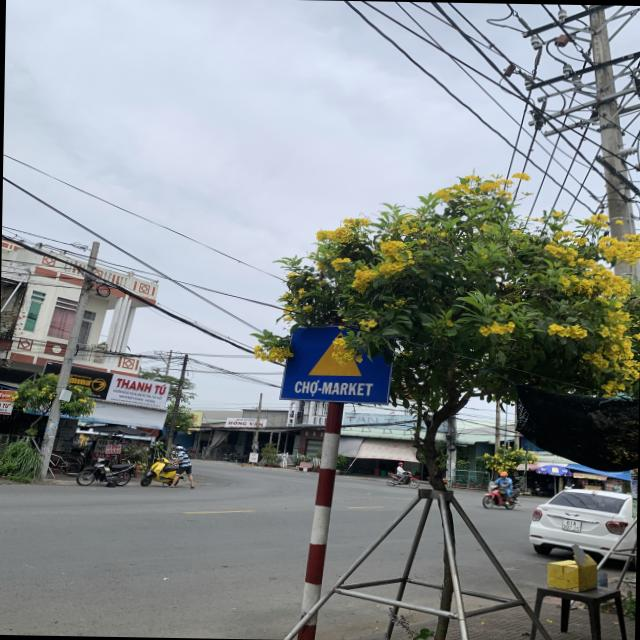Cho_Quay_Xe: (278, 324, 392, 405)
